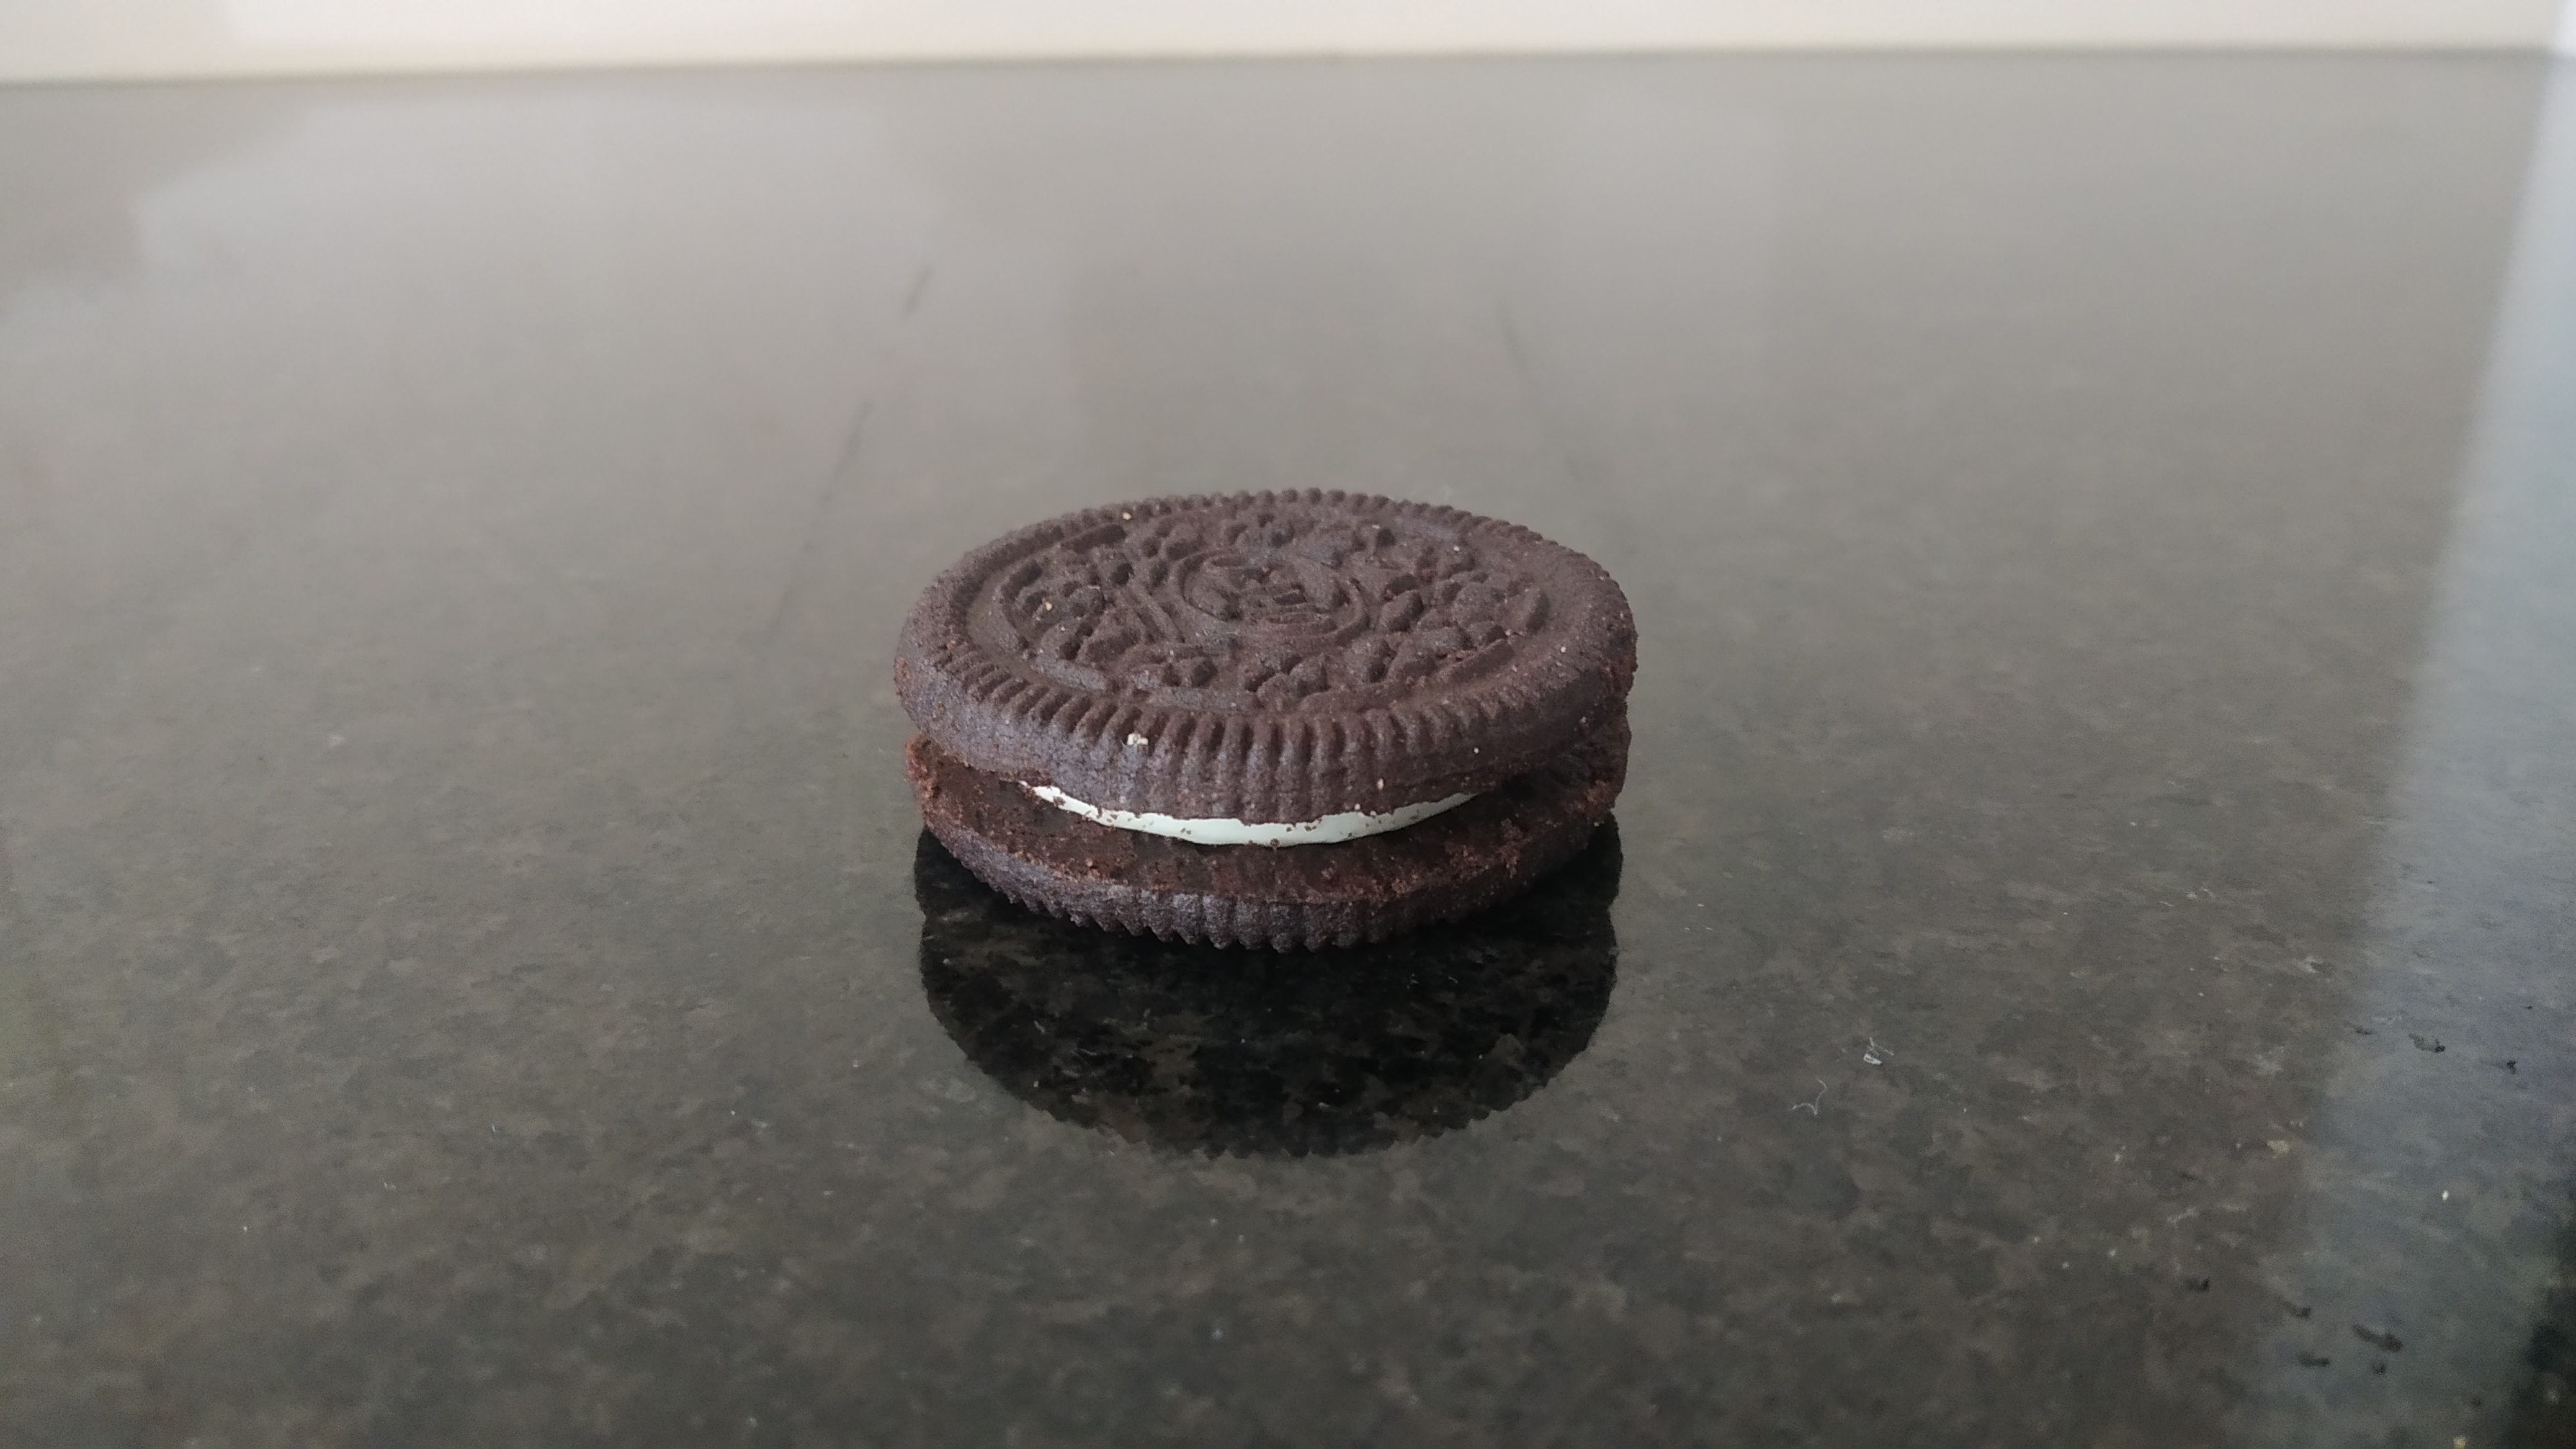oreo: (897, 490, 1640, 952)
